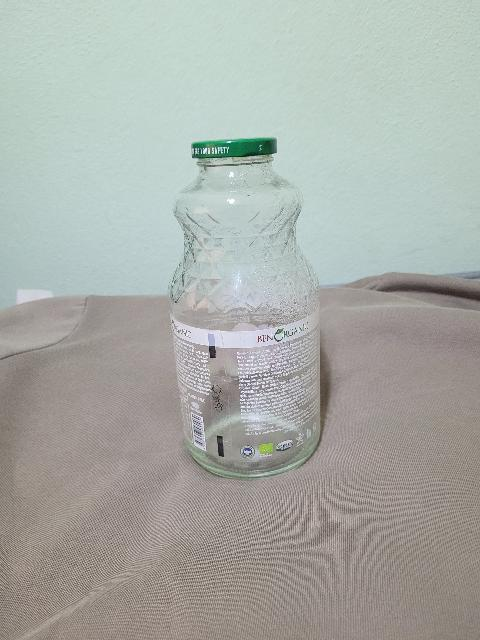Cam: (156, 160, 333, 488)
Metal: (179, 134, 283, 162)
